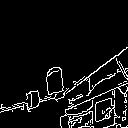cube: (41, 65, 66, 99), (22, 88, 41, 117)
